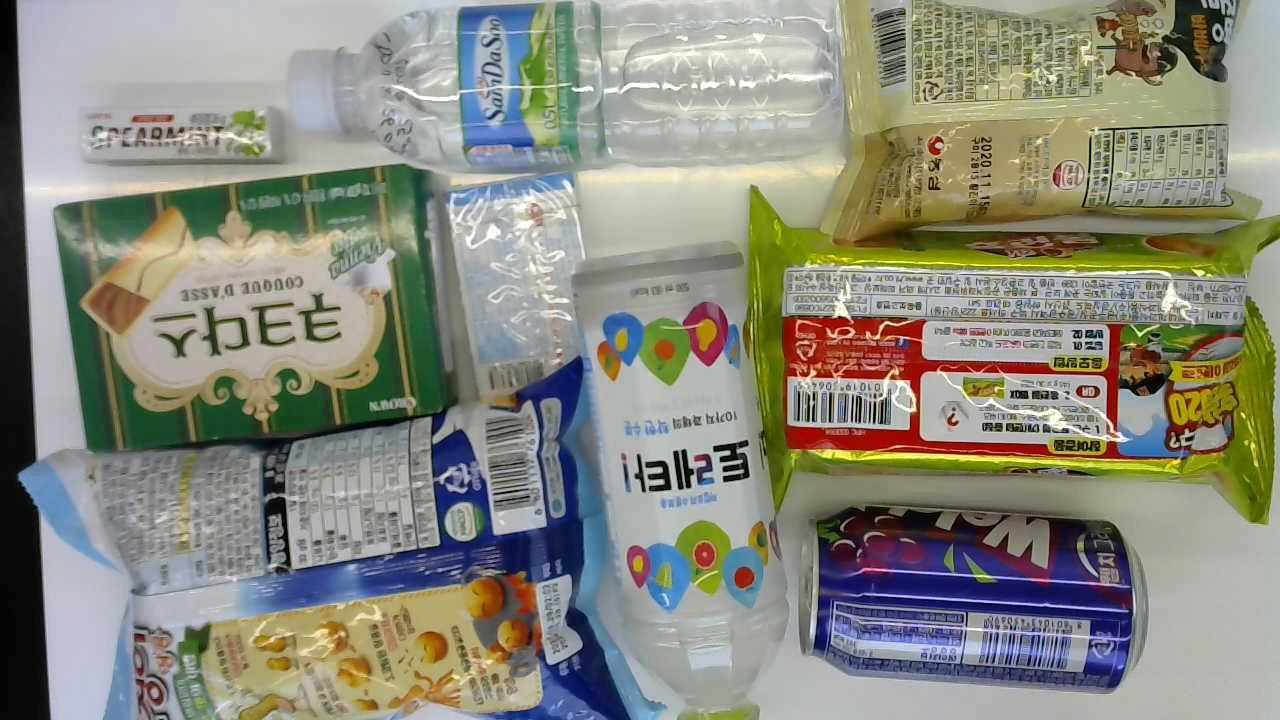ID_gum: (444, 176, 600, 398)
couque_coffee: (48, 164, 445, 448)
homerunball: (748, 184, 1280, 524)
jjolbyung_ori: (818, 0, 1265, 240)
samdasu: (289, 4, 849, 166)
spearmint: (82, 104, 288, 162)
squid_peanut: (21, 360, 636, 720)
toreta: (567, 241, 791, 720)
welchs: (800, 506, 1149, 699)
